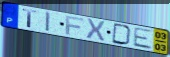D: (111, 22, 133, 47)
E: (132, 26, 153, 51)
F: (65, 15, 85, 36)
I: (45, 11, 52, 34)
T: (22, 8, 39, 29)
X: (85, 18, 106, 43)
